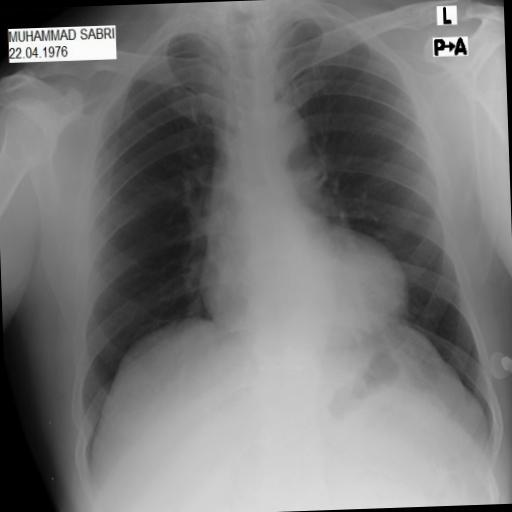kardiomegali: (187, 183, 418, 348)
